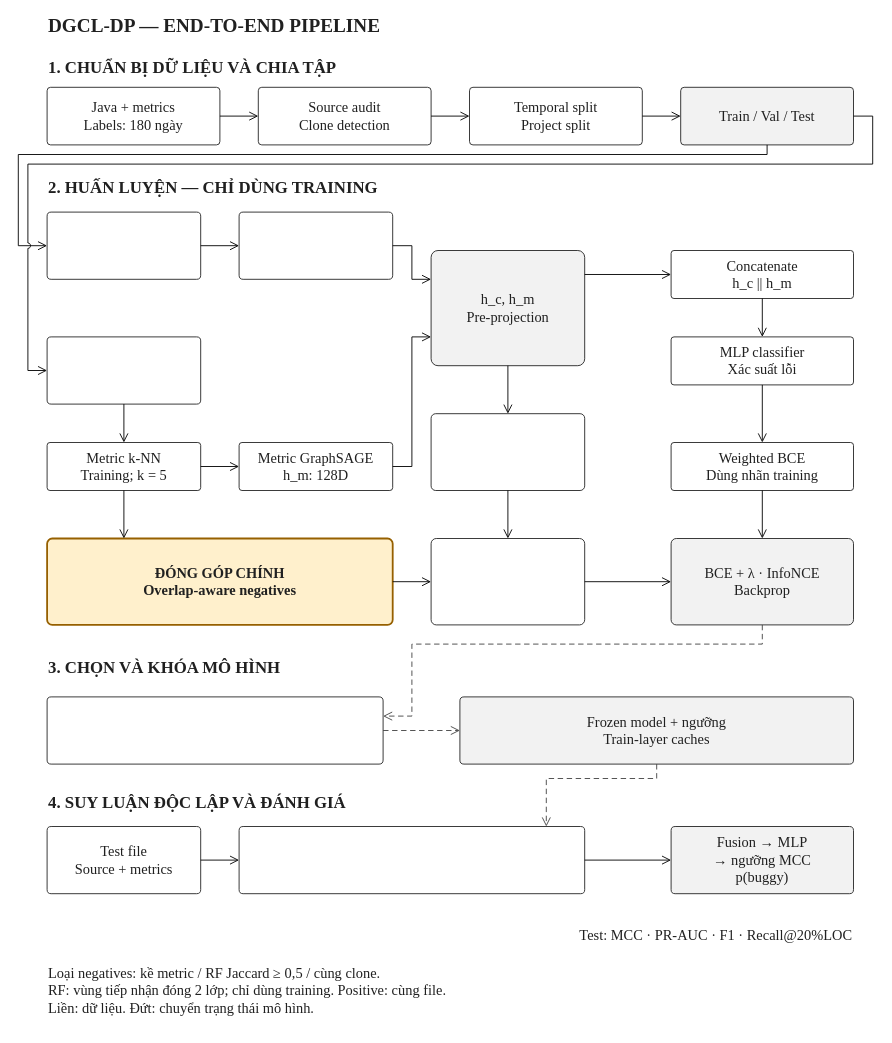
Some shapes in this 892 by 1043 pixel diagram are drawn without their labels. The centre of each missing label's shape, as x and y in pixels:
AST partitions ≤ 2.000 nodes: point (123, 245)
Frozen encoders Training → query only: point (411, 860)
GraphSAGE ×2 Mean pool → h_c: point (315, 245)
Impute + scale Training only: point (123, 370)
Projection heads 64D; L2 norm: point (507, 452)
Symmetric masked InfoNCE: point (507, 581)
Validation selection Config + ngưỡng MCC: point (214, 730)
